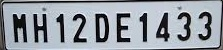character: (31, 11, 49, 44), (10, 11, 28, 43), (71, 12, 88, 44), (175, 10, 192, 42), (93, 11, 110, 42), (115, 11, 131, 43), (155, 11, 171, 43), (197, 9, 213, 41), (54, 11, 66, 44), (138, 11, 149, 43)
